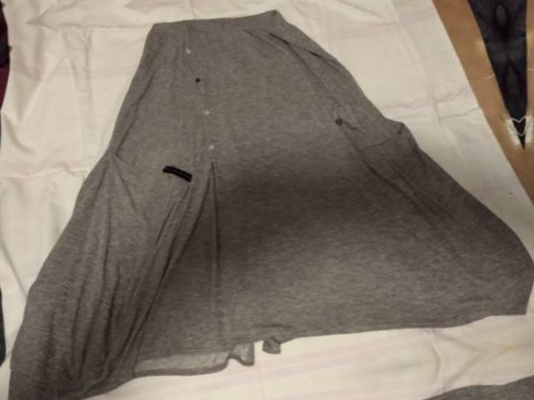Dress: (0, 0, 534, 400), (43, 358, 534, 400), (504, 0, 534, 323), (0, 0, 474, 15)
